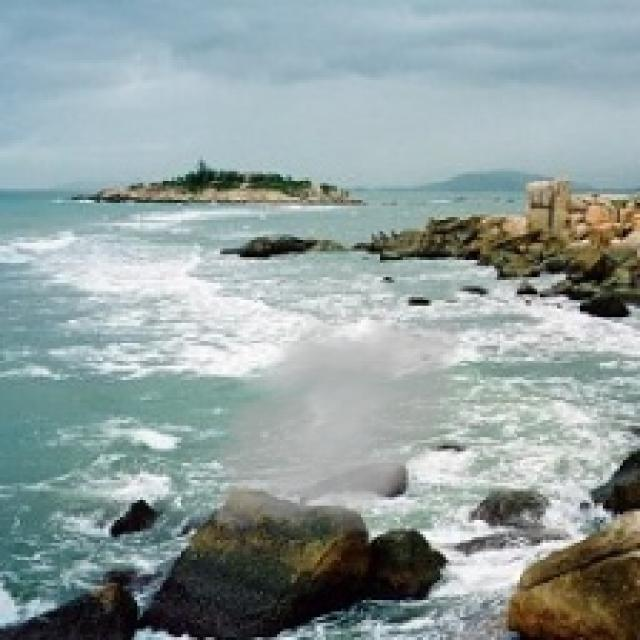smoke: (200, 294, 474, 554)
